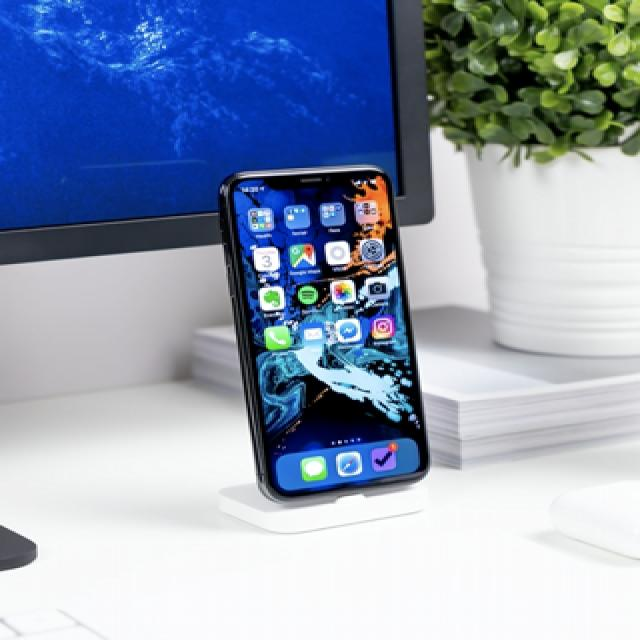cellphone: (216, 163, 430, 502)
